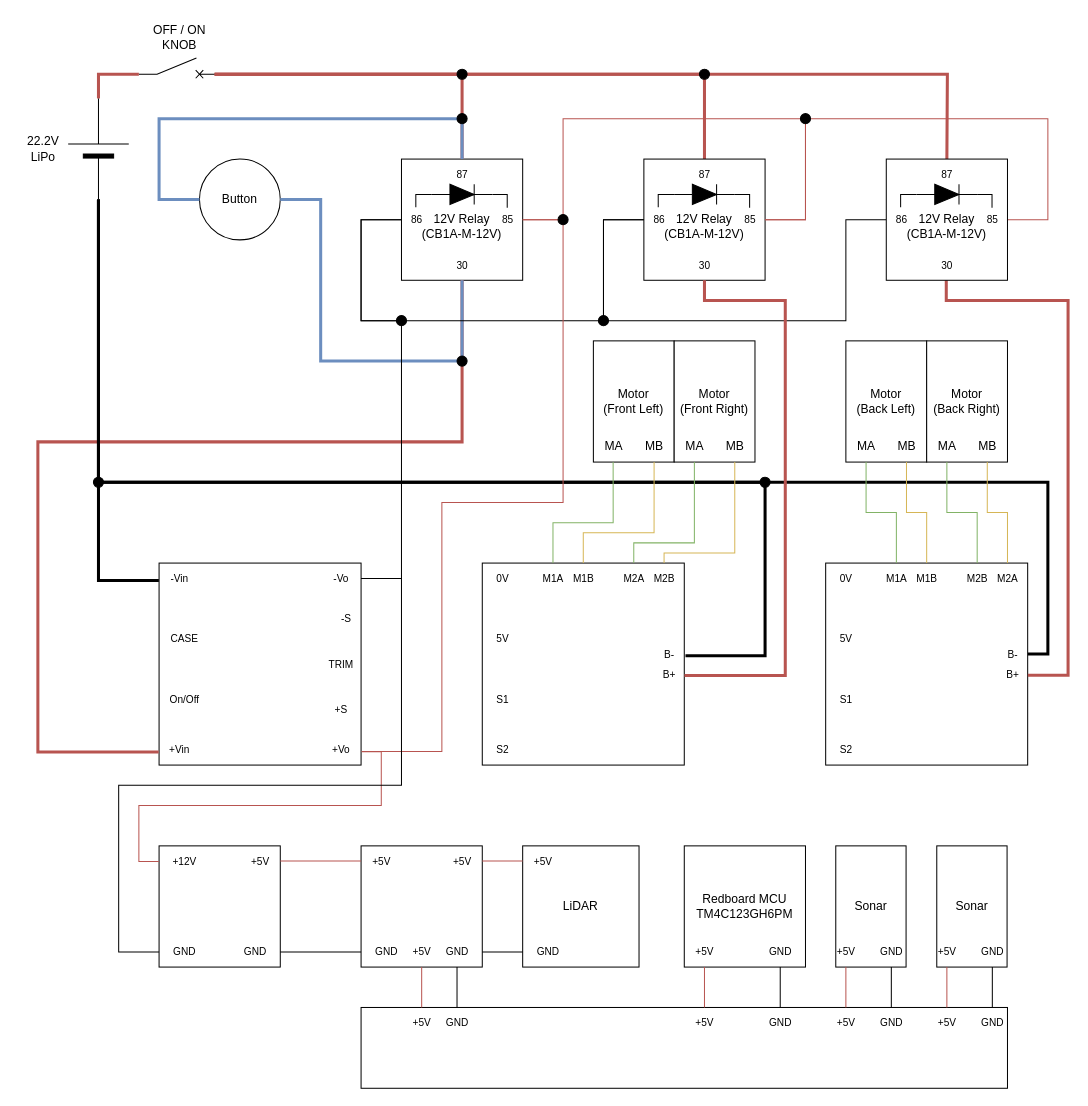
This 1088x1106 diagram has some shape labels left out. The box of each missing label's shape, as (x1, y1, x2, y2) in pixels:
Back Dual Motor Driver ( Sabertooth 2X25 V2): (825, 562, 1028, 765)
DC/DC Converter (VHB50W-Q48-S12) 22VDC-to-12VDC: (158, 562, 361, 765)
Front Dual Motor Driver ( Sabertooth 2X25 V2): (481, 562, 684, 765)
PCBoard Power Distribution: (360, 1006, 1007, 1088)
PD Board 12VDC-to-5VDC: (158, 845, 280, 967)
Raspberry Pi 5: (360, 845, 482, 967)
